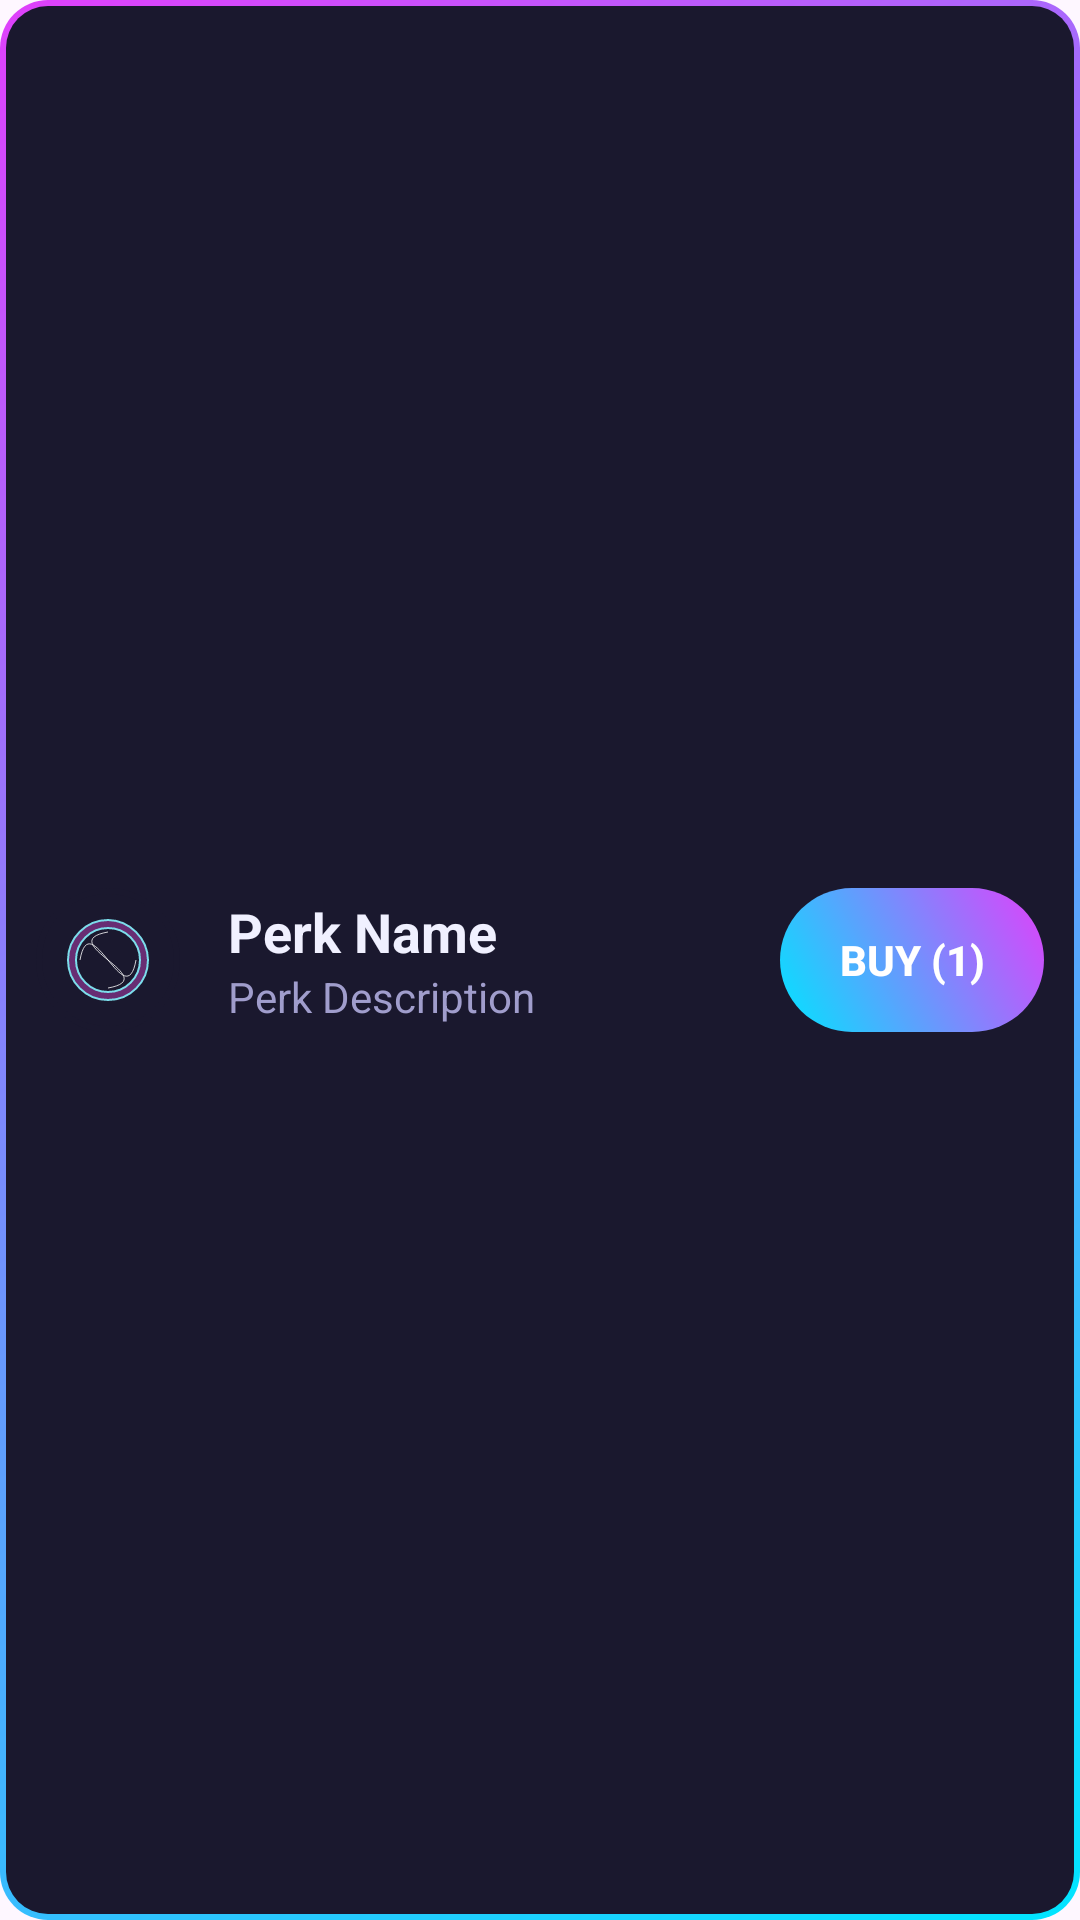

Icons on this 1080 x 1920 Android screen, each with its box as Rect(x1, y1, x2, y2):
cosmic rift: Rect(67, 919, 149, 1001)
